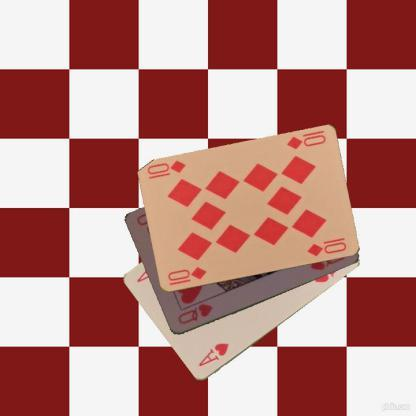10d: (165, 264, 208, 287), (284, 132, 328, 151)
Ah: (196, 340, 230, 368)
Qh: (175, 301, 214, 326)
